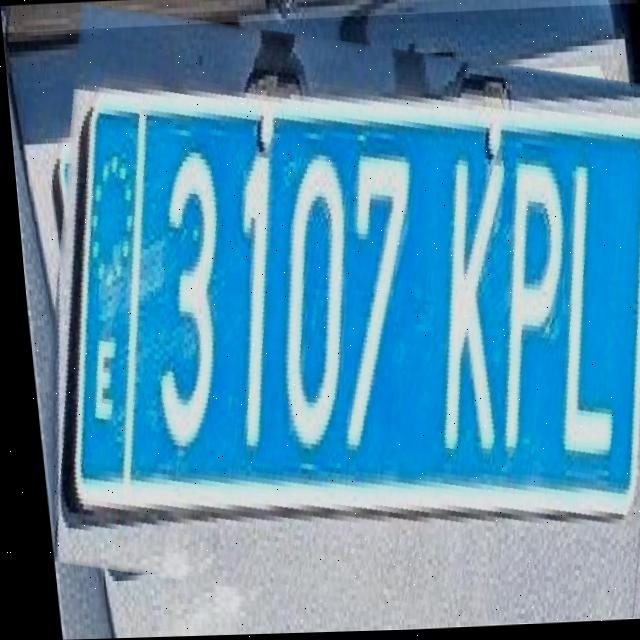LicensePlate: (1, 6, 640, 640)
